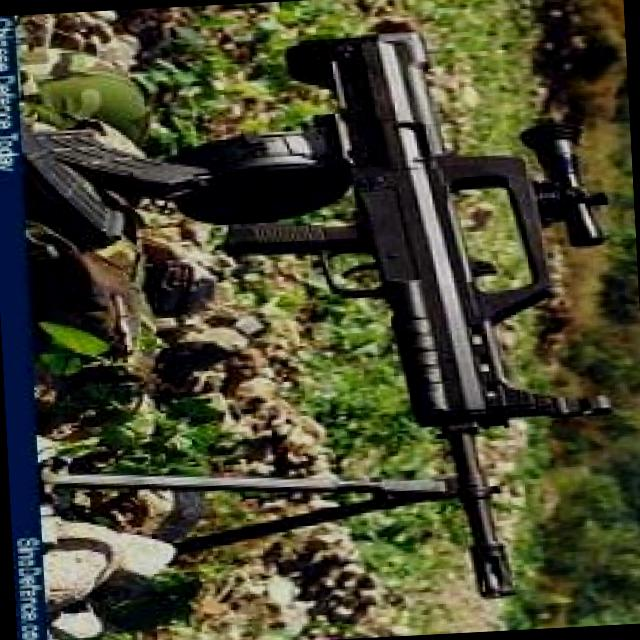long weapon: (150, 11, 630, 627)
